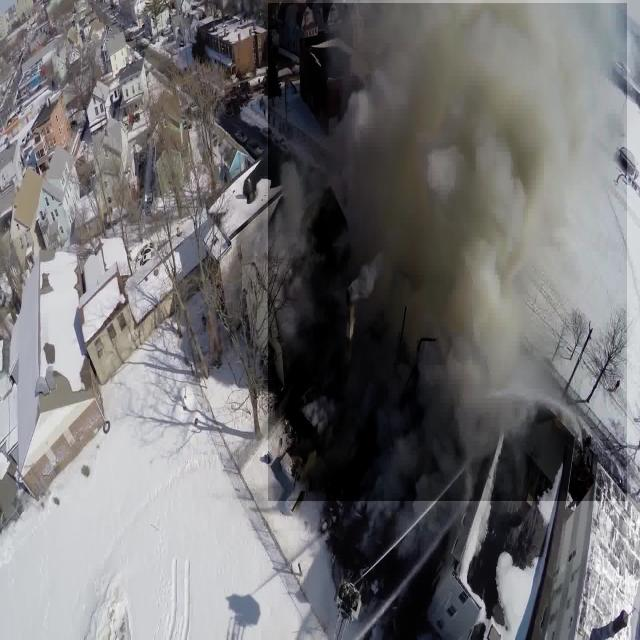Smoke: (268, 3, 627, 501)
